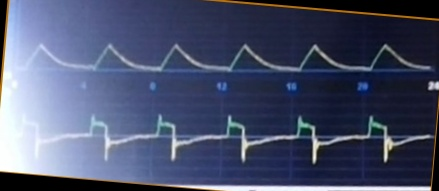Accumulation Flow: (16, 108, 429, 169)
Volume: (16, 31, 431, 78)
